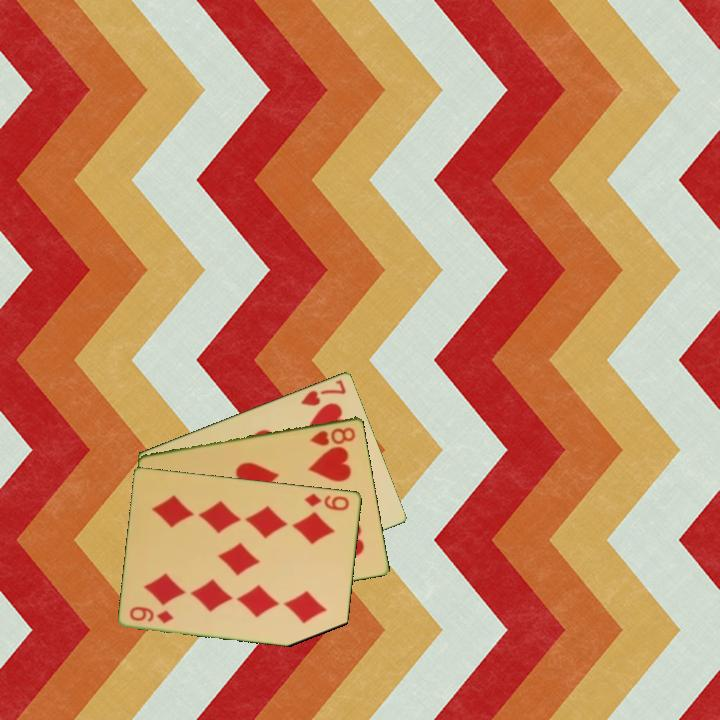7h: (297, 376, 349, 409)
8h: (307, 423, 358, 448)
9d: (301, 490, 352, 513), (126, 603, 177, 626)
